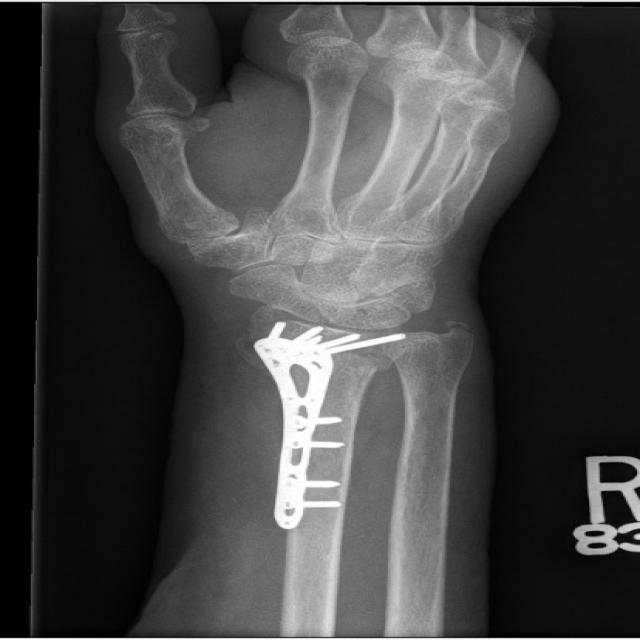x-ray: (237, 313, 412, 537)
